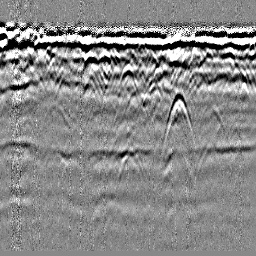cavity: (119, 62, 138, 94)
